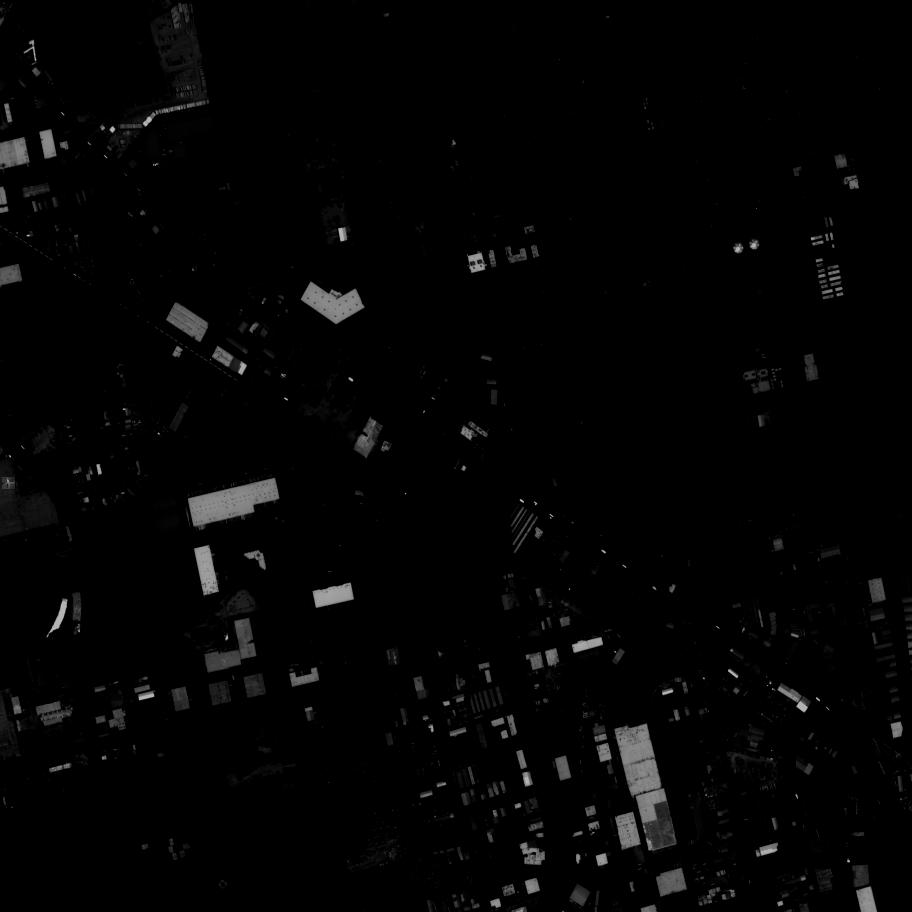plane: (2, 478, 17, 491), (31, 655, 45, 668)
